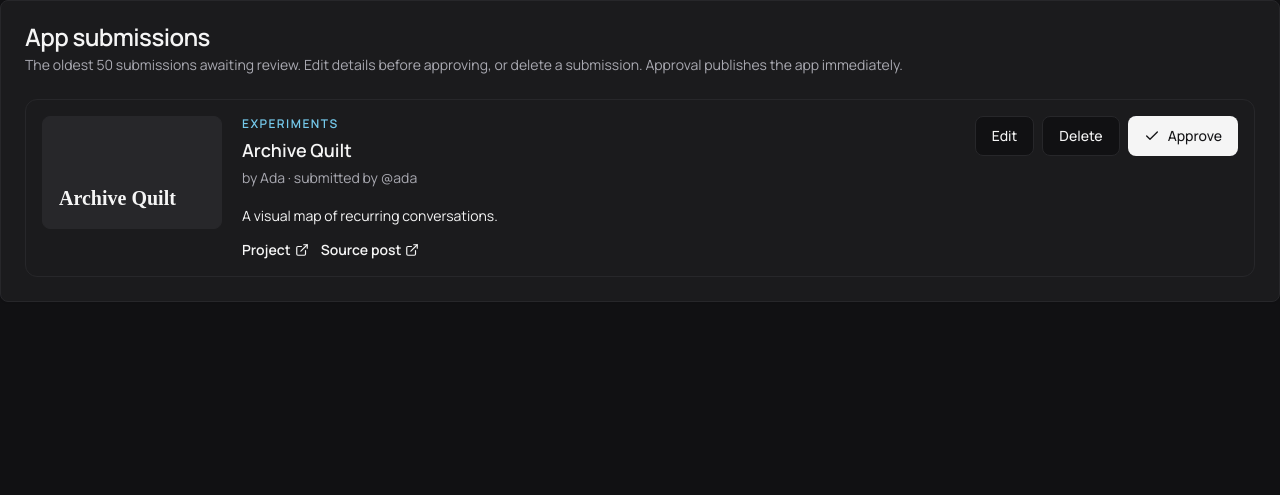
requires confirmation to delete and retains the row when deletion fails
Click the button "Delete".
click(1081, 136)  # box 1042,116 -> 1120,156
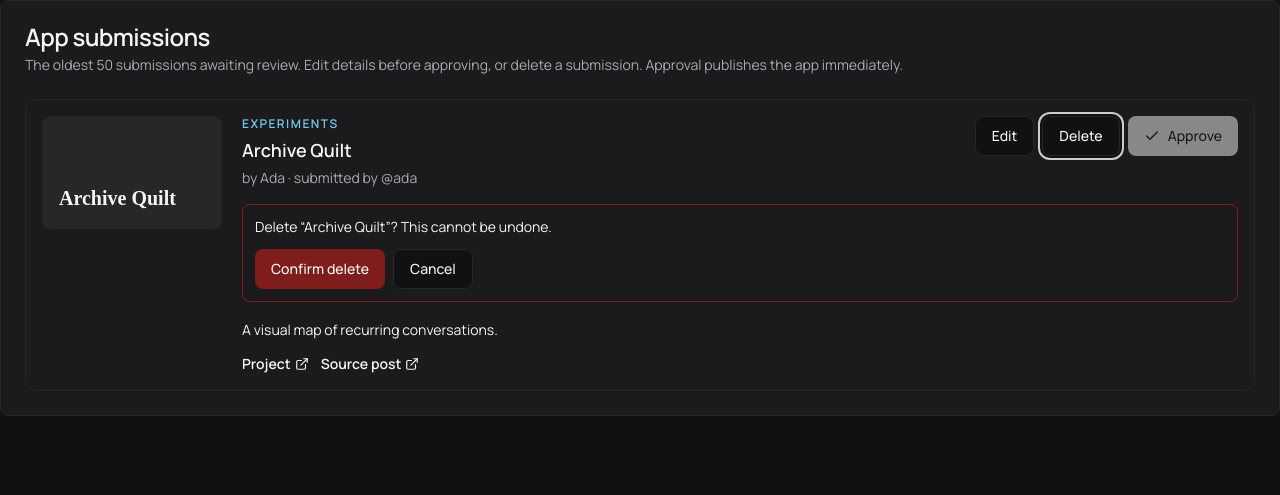
Click the button "Confirm delete".
click(320, 269)  # box 255,249 -> 385,289
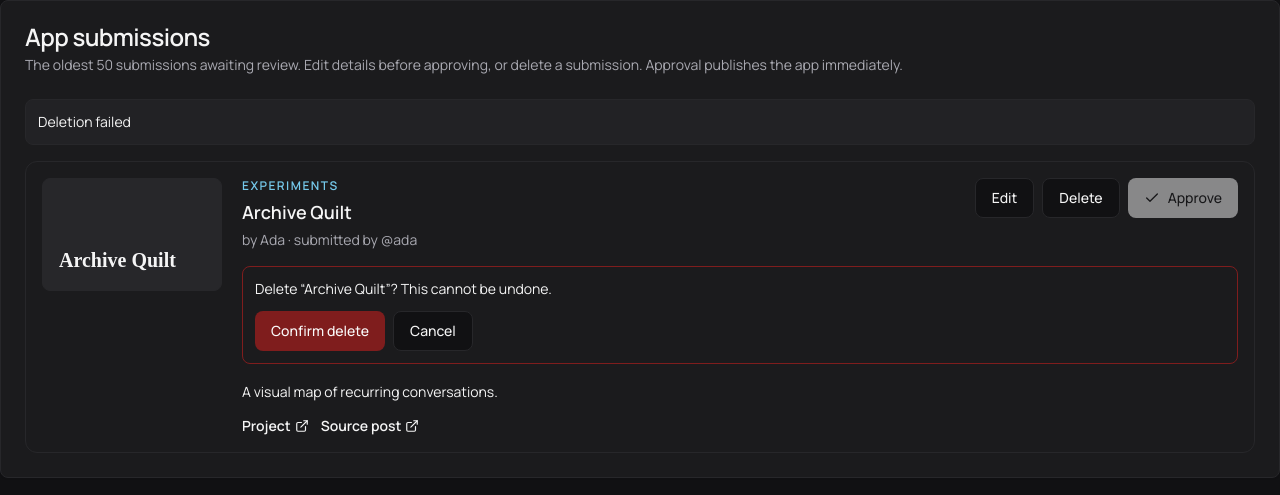
Expected: the heading "Archive Quilt" is shown, 242,200 -> 352,224
Now the message reads "Deletion failed", box 38,112 -> 131,131
Click the button "Confirm delete".
click(320, 331)  # box 255,311 -> 385,351
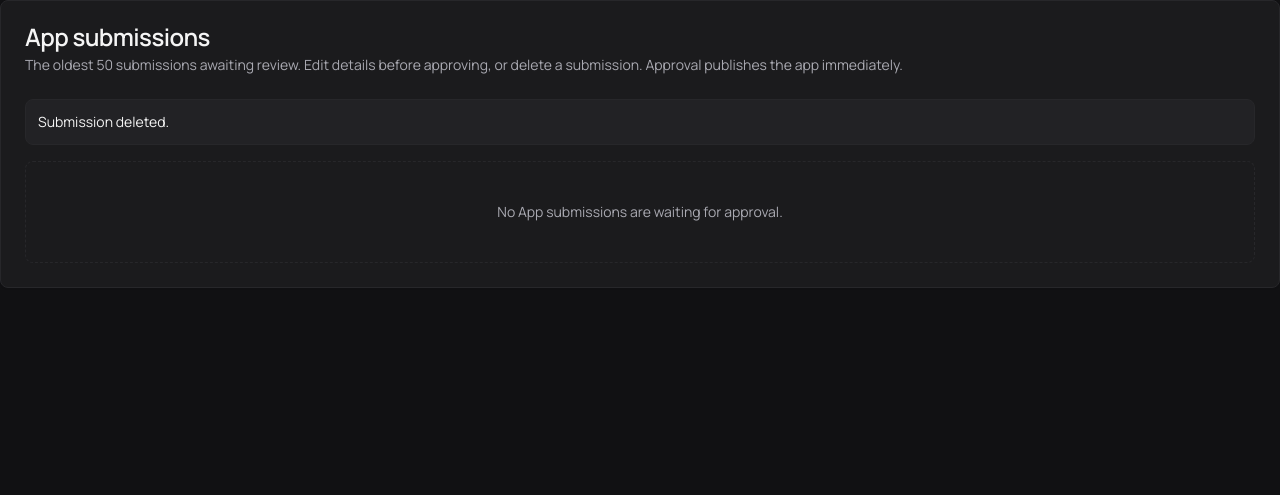
Now the message reads "Submission deleted.", box 38,112 -> 169,131
Now the text "Archive Quilt" is gone
